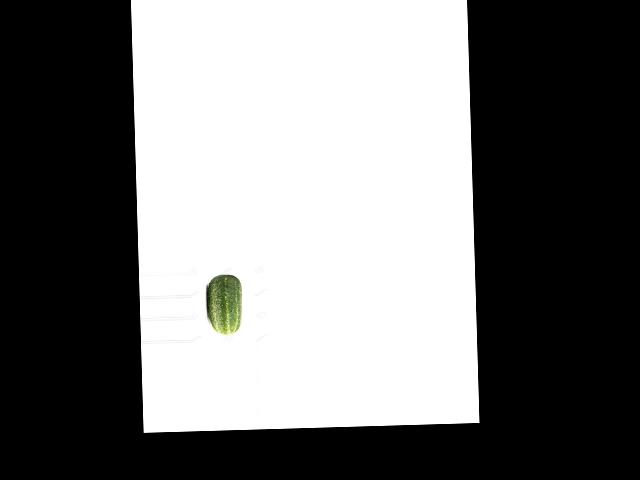cucumber: (206, 273, 242, 334)
